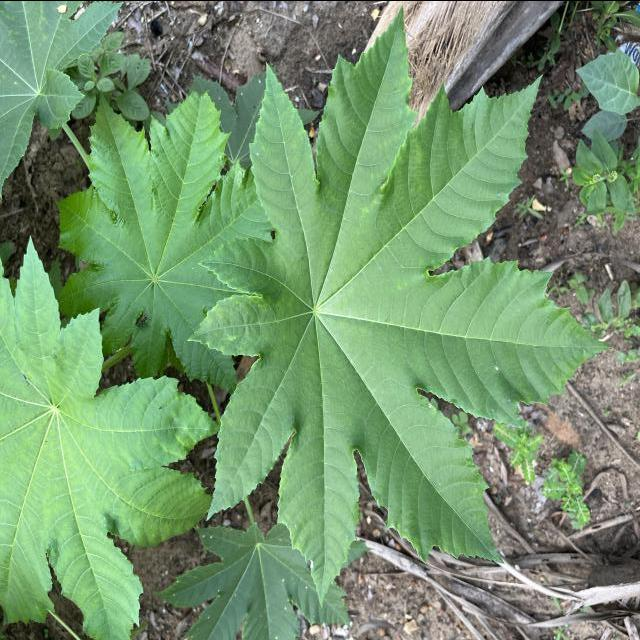Ricinus communis linn: (180, 0, 618, 613), (48, 84, 276, 396)
